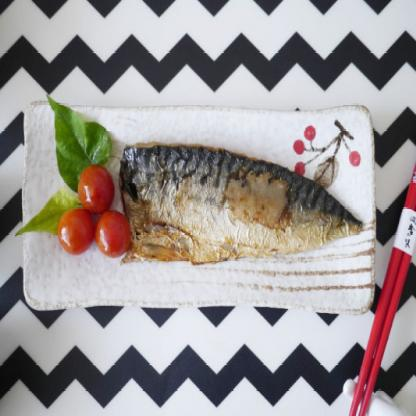Peixe: (120, 137, 368, 278)
